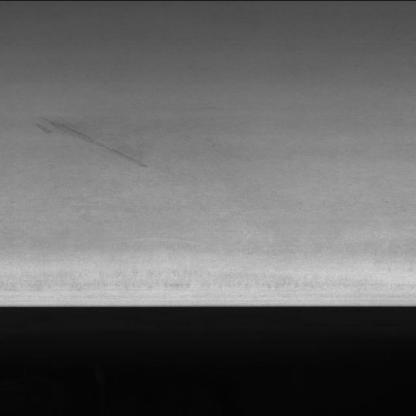water_spot: (22, 108, 167, 170)
